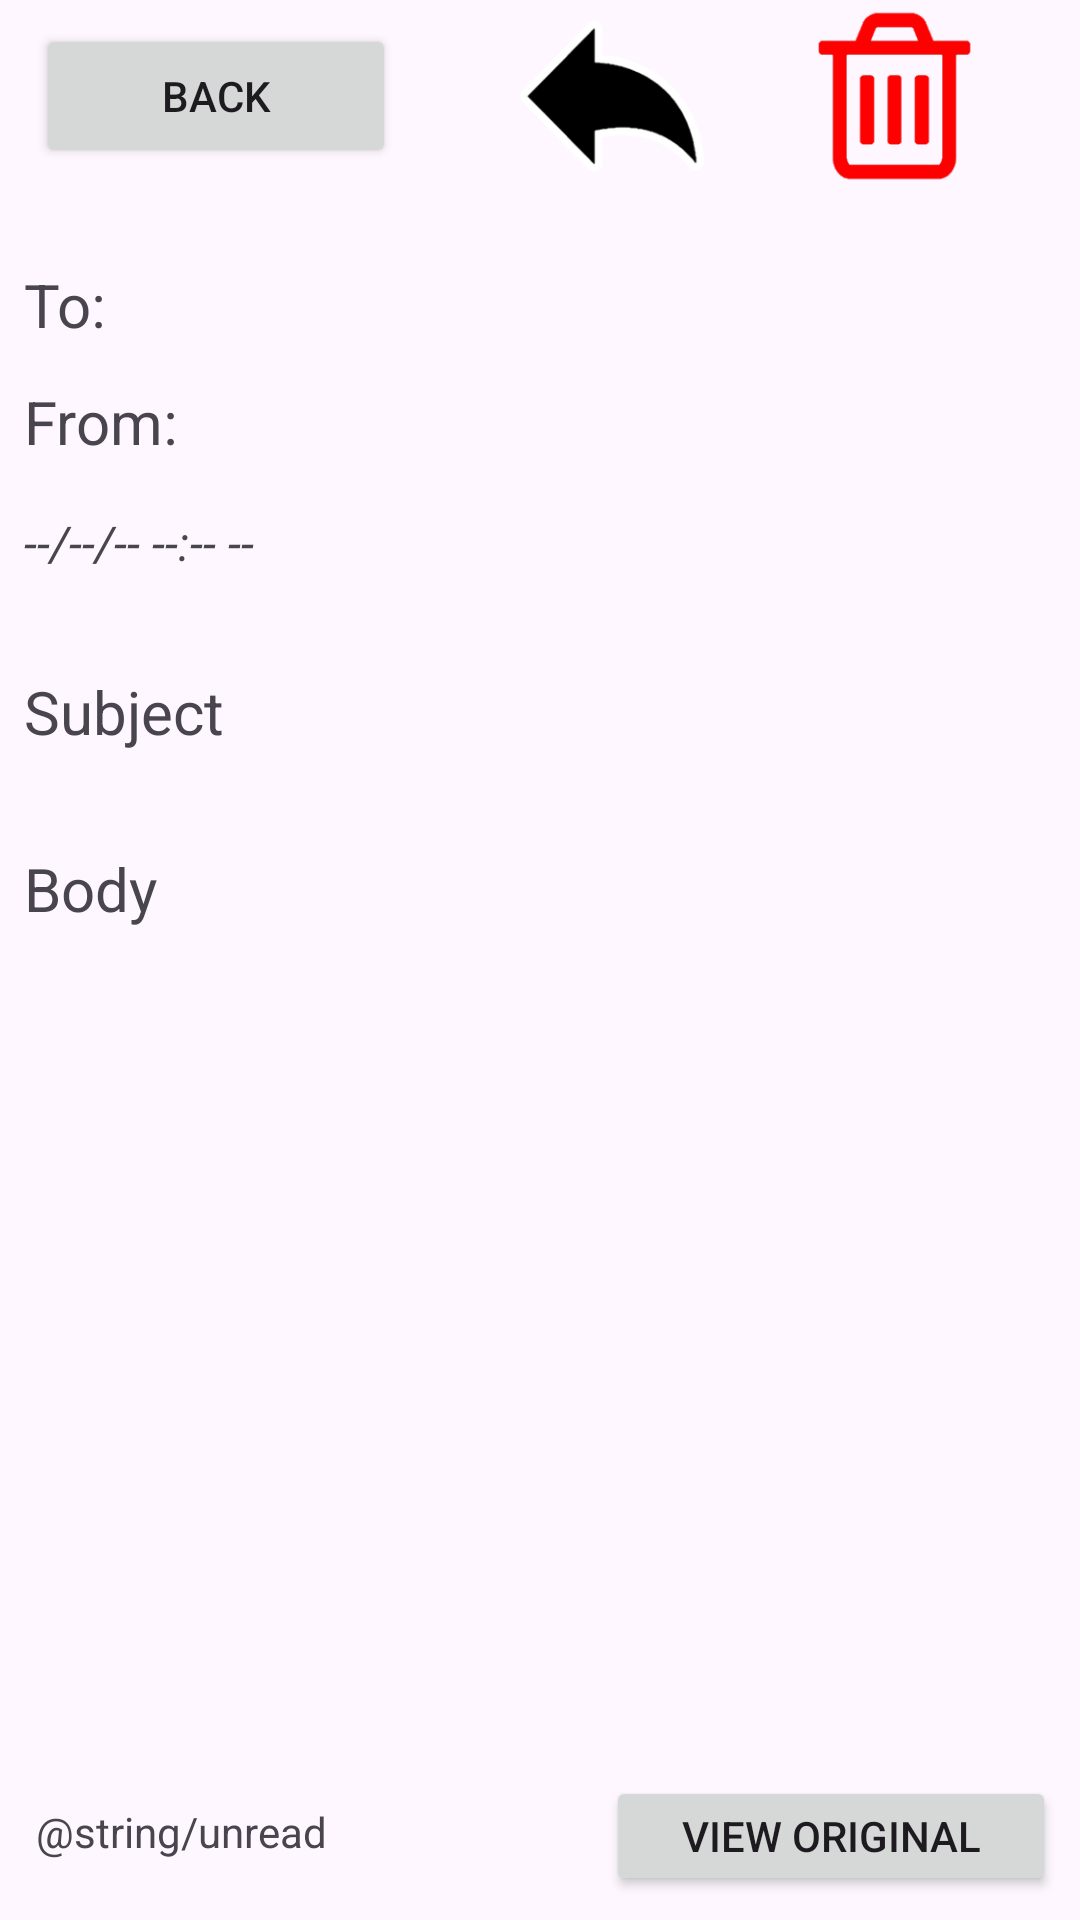

Named icons in this screenshot (1080px×1920px) and their bounding boxes, [x1=x1, y1=y1, x2=x2, y2=y2]:
reply: [x1=527, y1=28, x2=697, y2=164]
trash: [x1=818, y1=12, x2=971, y2=180]
